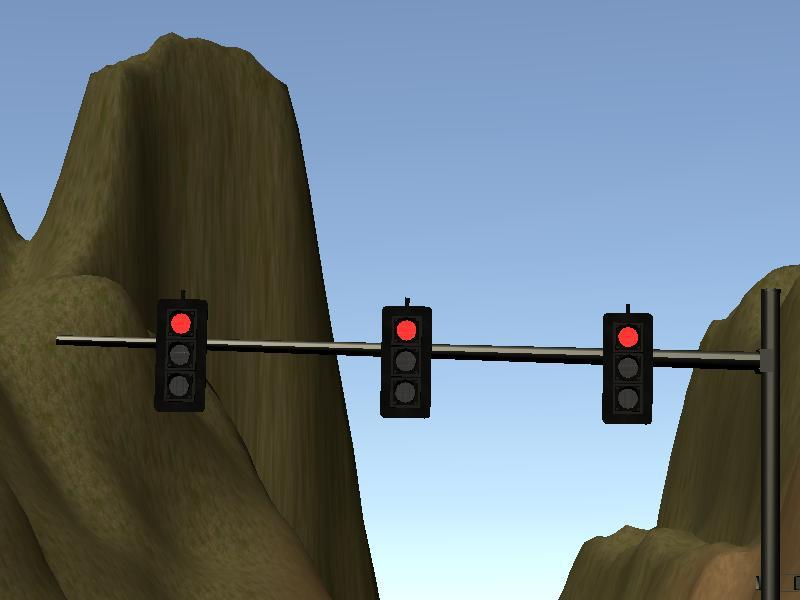Red: (154, 299, 206, 412), (600, 313, 652, 425), (379, 306, 431, 418)
